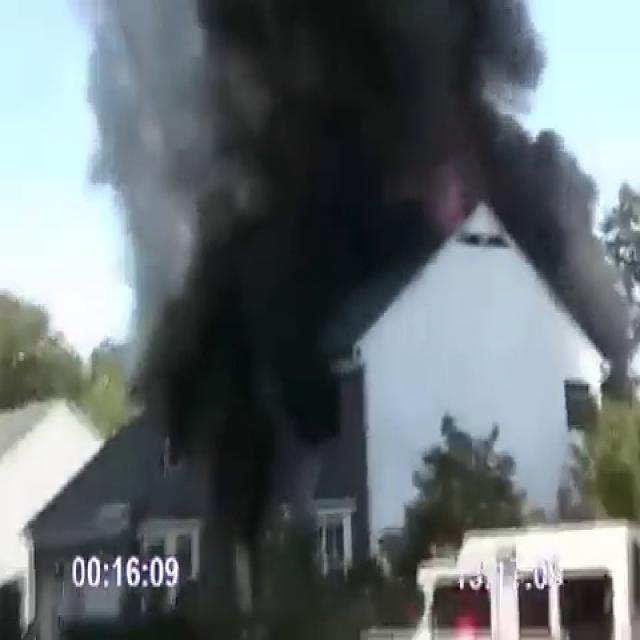Smoke: (64, 0, 636, 391)
